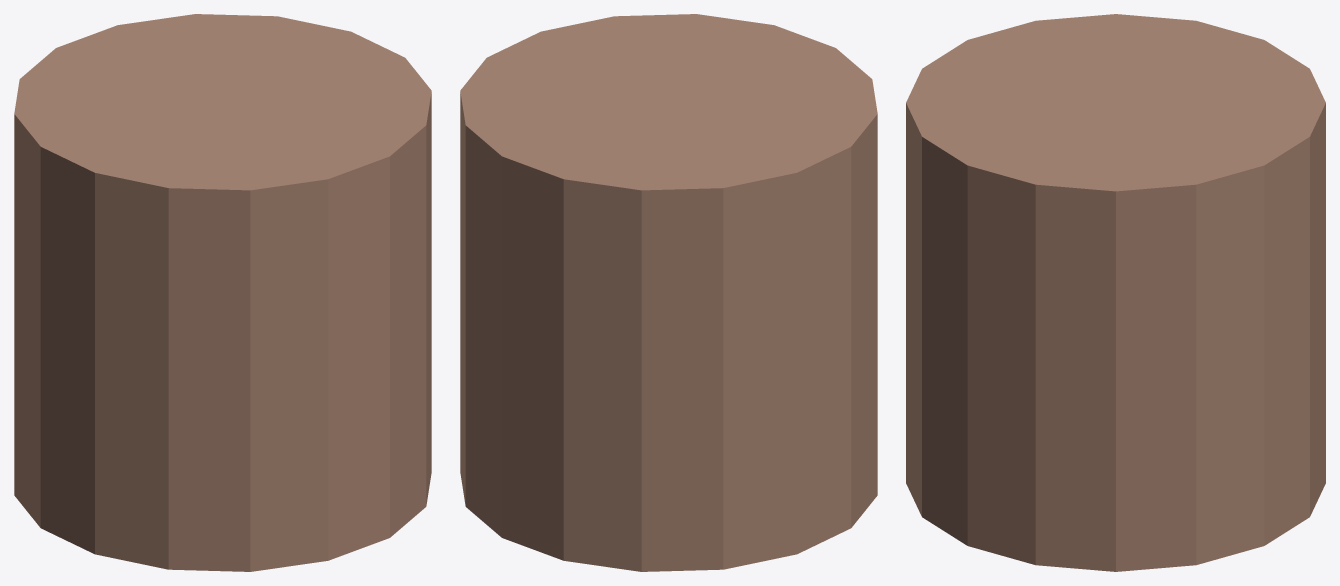
File: fire-circle.glb
3 views of the same model, side by side, from view 1: azimuth 30°, elevation 25°; view 2: azimuth 150°, elevation 25°; view 3: azimuth 270°, elevation 25° (orthographic).
Parts seen in each view (by area): view 1: fire-circle; view 2: fire-circle; view 3: fire-circle.
Part boxes in pixels (x1=…): fire-circle: x1=14, y1=14, x2=431, y2=571; fire-circle: x1=460, y1=14, x2=877, y2=571; fire-circle: x1=906, y1=14, x2=1325, y2=571.
Bounding box in the file's own units: 1 × 1 × 1.
